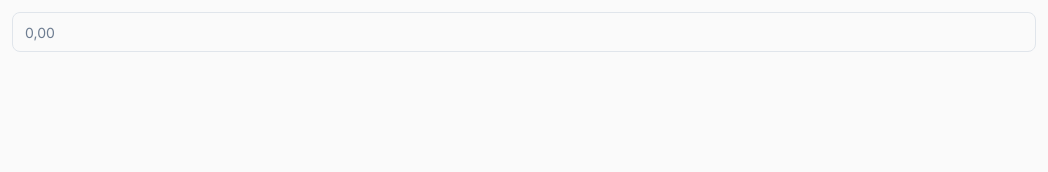
Scenario: ImportoCompensazioneInput › intero senza decimali viene formattato a 2 decimali su commit
The width and height of the screenshot is (1048, 172).
Type "250" into the field with test id "importo". click: (524, 32)
box: [12, 12, 1036, 52]
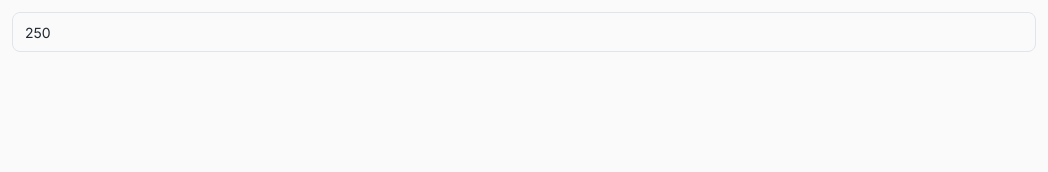
Leave the field with test id "importo", box [12, 12, 1036, 52]
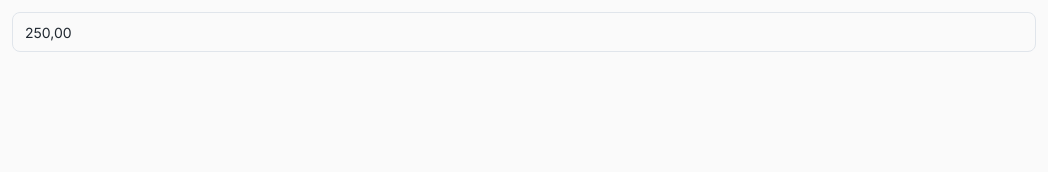
Now the field with test id "importo" holds "250,00", box [12, 12, 1036, 52]
